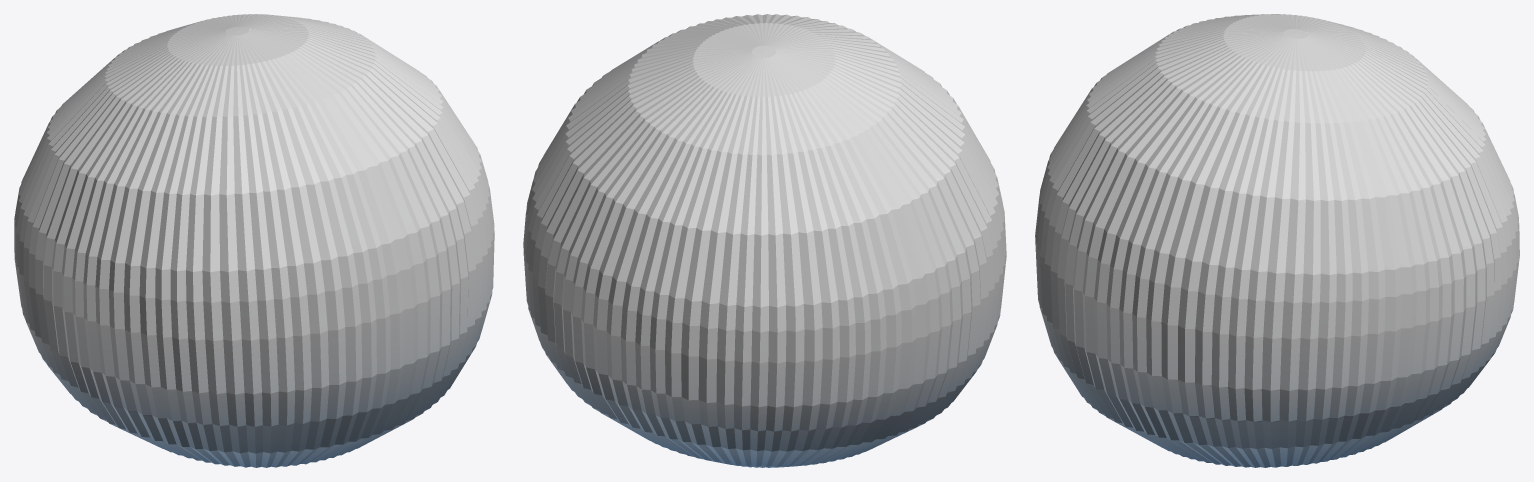
The model's file is Snowman-Body.fbx.
3 views of the same model, side by side, from view 1: azimuth 30°, elevation 25°; view 2: azimuth 150°, elevation 25°; view 3: azimuth 270°, elevation 25° (orthographic).
Visible parts, largest first — view 1: Body; view 2: Body; view 3: Body.
Part boxes in pixels (x1,y1,x2,y2): Body: (14,14,494,467); Body: (523,14,1006,467); Body: (1035,14,1519,467).
Bounding box in the file's own units: 8.9 × 8.14 × 8.91.
